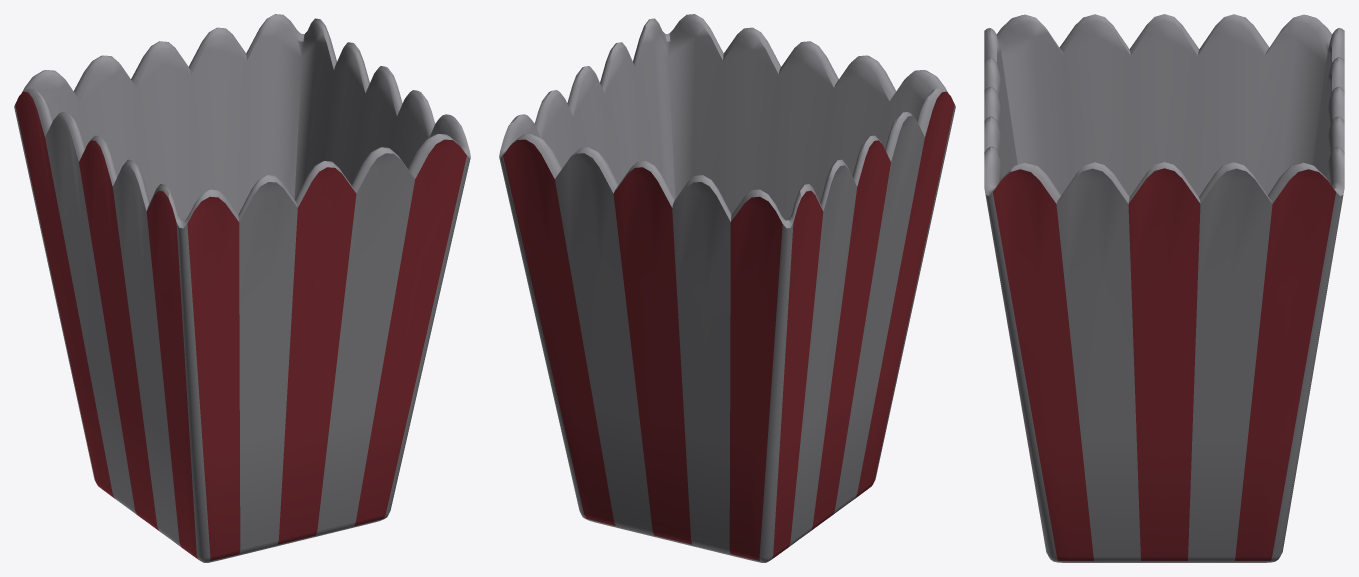
File: popcorn_box.fbx
The picture shows the model from 3 angles, left to right: view 1: azimuth 30°, elevation 25°; view 2: azimuth 150°, elevation 25°; view 3: azimuth 270°, elevation 25°; orthographic projection. The views are drawn at different scales.
Visible parts, largest first — view 1: popcorn box; view 2: popcorn box; view 3: popcorn box.
Boxes of the visible parts, x1=… form: popcorn box: x1=14, y1=14, x2=470, y2=562; popcorn box: x1=499, y1=14, x2=955, y2=562; popcorn box: x1=984, y1=14, x2=1344, y2=562.
Bounding box in the file's own units: 1.52 × 2 × 1.52.
